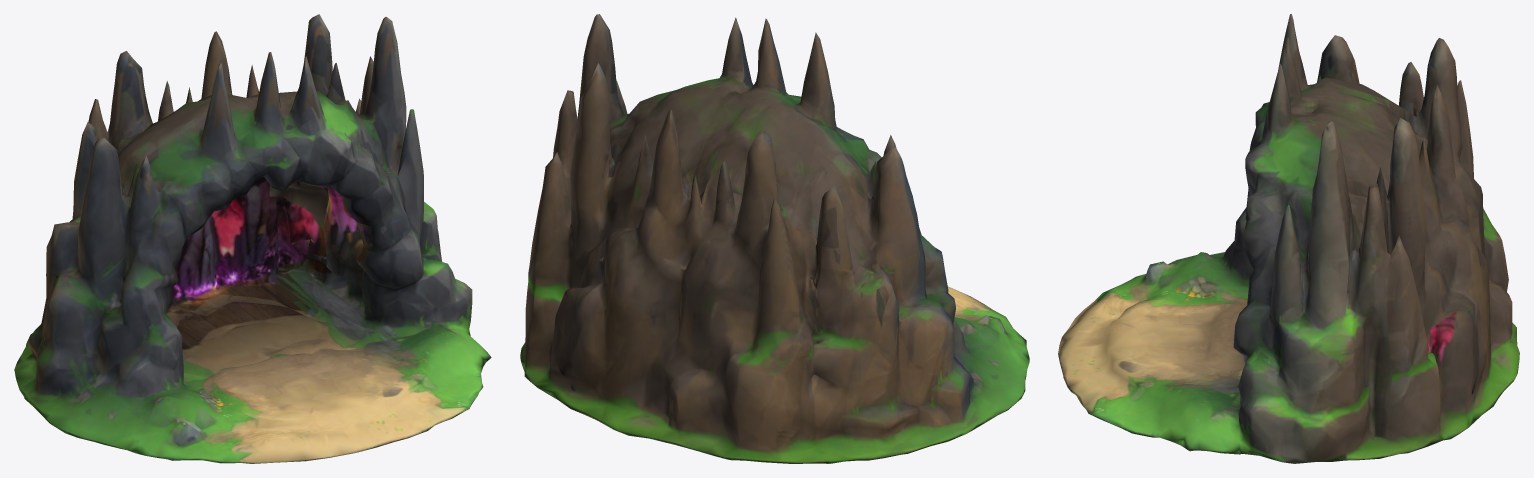
The model's file is Dark_Cave.glb.
The picture shows the model from 3 angles, left to right: view 1: azimuth 30°, elevation 25°; view 2: azimuth 150°, elevation 25°; view 3: azimuth 270°, elevation 25°; orthographic projection. The views are drawn at different scales.
Parts seen in each view (by area): view 1: Mesh1; view 2: Mesh1; view 3: Mesh1.
Boxes of the visible parts, x1=… form: Mesh1: x1=14, y1=14, x2=491, y2=463; Mesh1: x1=520, y1=14, x2=1029, y2=463; Mesh1: x1=1058, y1=14, x2=1519, y2=463.
Size of the model in its own units: 0.2751 by 0.2 by 0.2511.
1 material, 1 textured.
